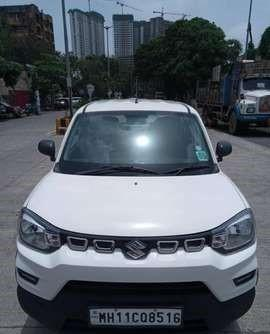MH11CQ8516: (89, 306, 181, 324)
